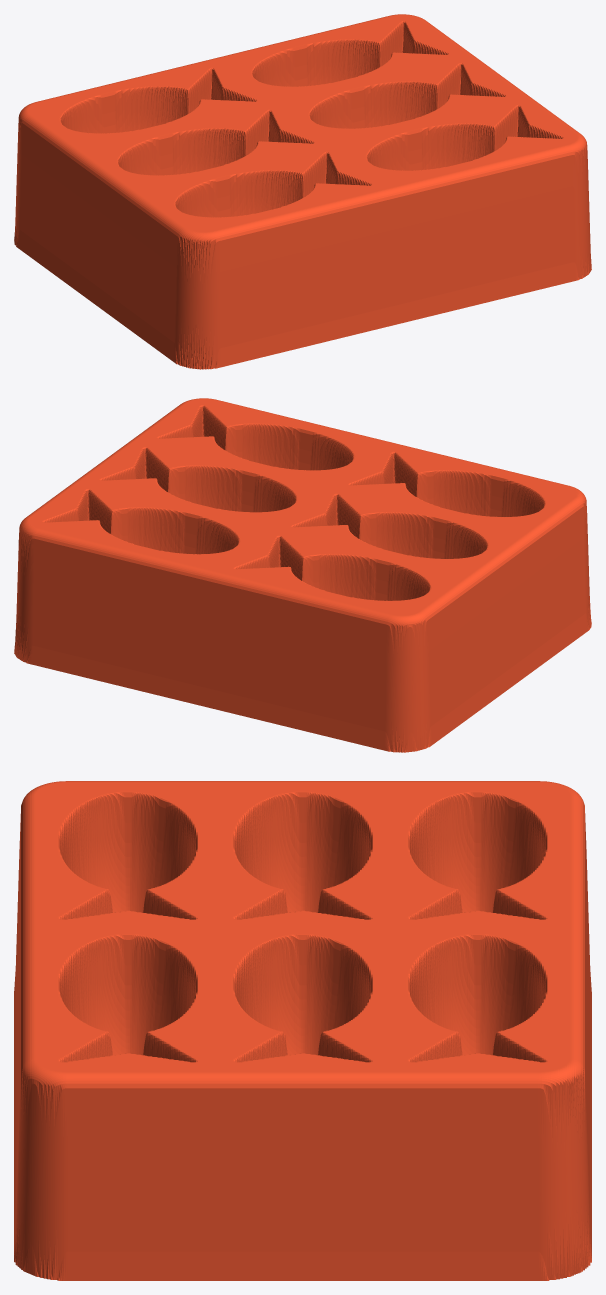
Rendered from mold.glb.
3 renders of one model, top to bottom at view 1: azimuth 30°, elevation 25°; view 2: azimuth 150°, elevation 25°; view 3: azimuth 270°, elevation 25°, orthographic. The views are drawn at different scales.
Parts seen in each view (by area): view 1: geometry_0; view 2: geometry_0; view 3: geometry_0.
Boxes of the visible parts, x1,y1,x2,y2 form: geometry_0: (14,14,591,369); geometry_0: (14,398,591,752); geometry_0: (14,781,591,1280).
Bounding box in the file's own units: 0.1246 × 0.0377 × 0.099.
